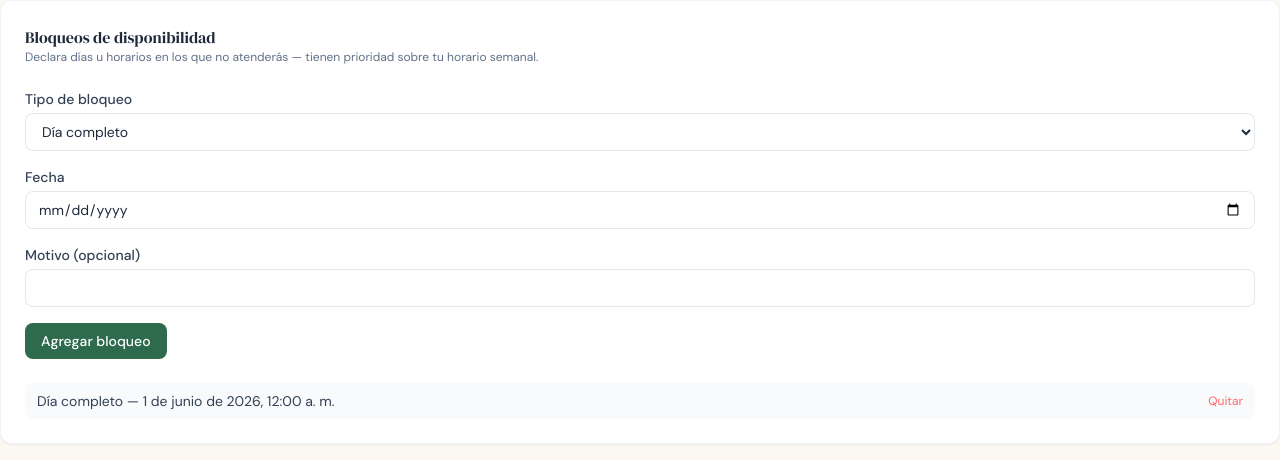
BlockoutEditor — therapist-availability Req: Availability Blockouts › quita un bloqueo existente de la lista
This screenshot has width=1280, height=460.
Expected: the list is shown, [25,383,1255,419]
Click the button with aria-label "Quitar bloqueo blockout-9" at [1226, 401], box [1208,393,1243,409]
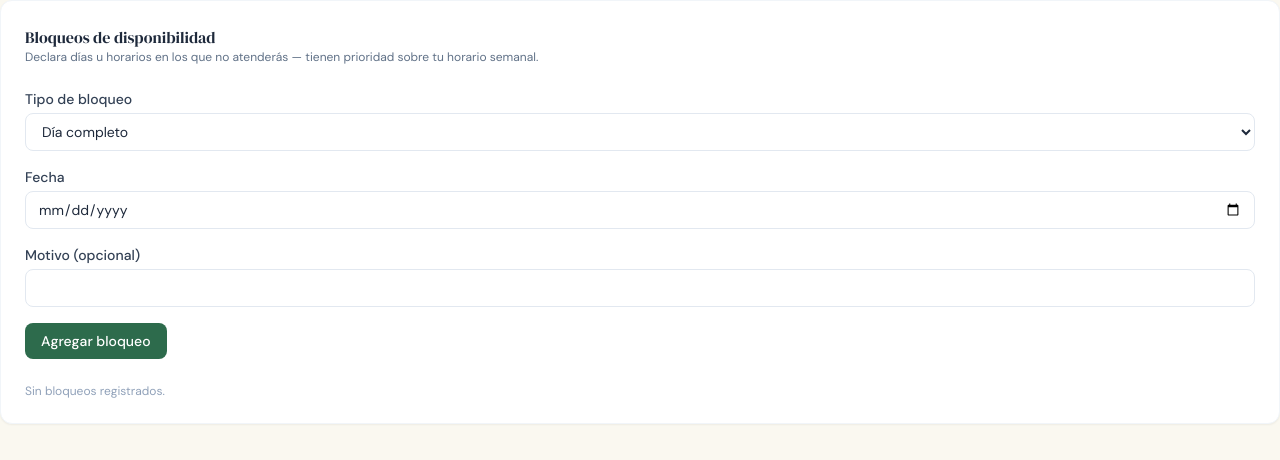
Expected: the text "Sin bloqueos registrados." is shown, [25,383,165,399]
